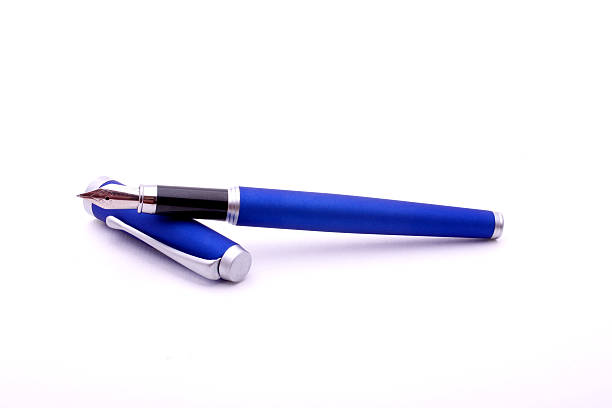pen: (62, 159, 524, 295)
